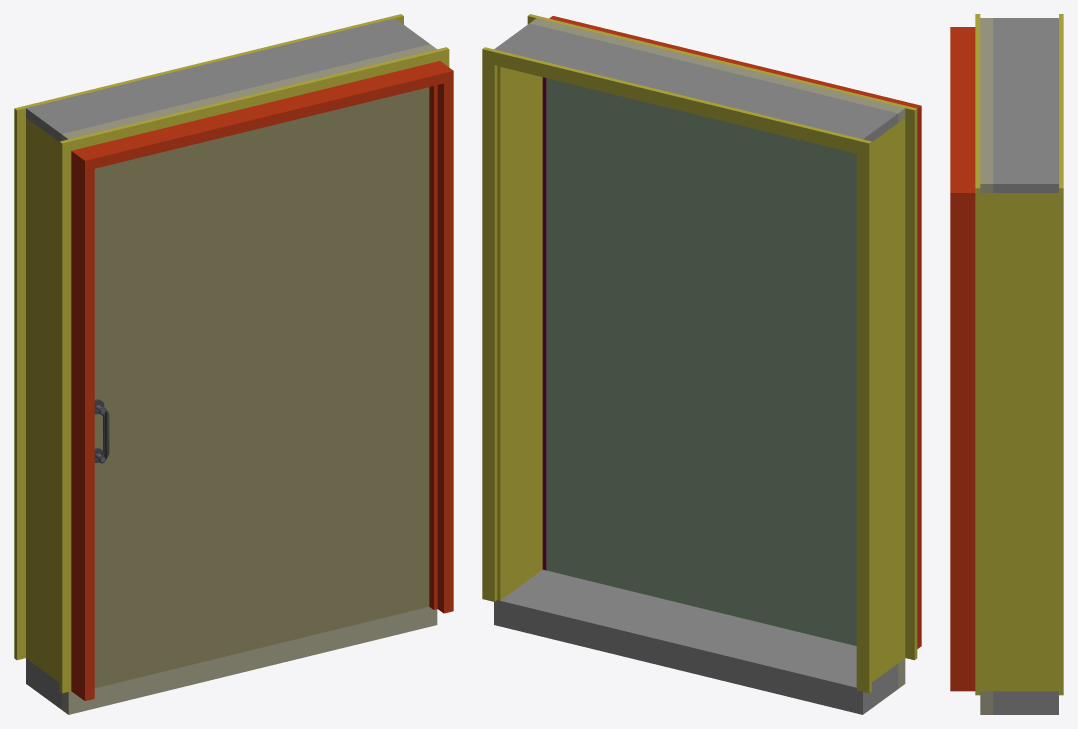
Rendered from Door Hosp.obj.
3 renders of one model, left to right at view 1: azimuth 30°, elevation 25°; view 2: azimuth 150°, elevation 25°; view 3: azimuth 270°, elevation 25°, orthographic. The views are drawn at different scales.
Visible parts, largest first — view 1: DOOR GROUND_FLOOR PAINT_-_GOLDEN_BEIGE, DOOR GROUND_FLOOR PAINT_-_LEAD_OXIDE_YELLOW, DOOR GROUND_FLOOR PAINT_-_CADMIUM_ORANGE, WALL GROUND_FLOOR PAINT_-_LIGHT_GRAY, WALL GROUND_FLOOR PAINT_-_SAND_BEIGE; view 2: DOOR GROUND_FLOOR PAINT_-_CELADON, DOOR GROUND_FLOOR PAINT_-_LEAD_OXIDE_YELLOW, WALL GROUND_FLOOR PAINT_-_LIGHT_GRAY, DOOR GROUND_FLOOR PAINT_-_CADMIUM_ORANGE, WALL GROUND_FLOOR PAINT_-_SAND_BEIGE, DOOR GROUND_FLOOR PAINT_-_BORDEAUX; view 3: DOOR GROUND_FLOOR PAINT_-_LEAD_OXIDE_YELLOW, DOOR GROUND_FLOOR PAINT_-_CADMIUM_ORANGE, WALL GROUND_FLOOR PAINT_-_LIGHT_GRAY, WALL GROUND_FLOOR PAINT_-_SAND_BEIGE.
Boxes of the visible parts, x1,y1,x2,y2 form: DOOR GROUND_FLOOR PAINT_-_GOLDEN_BEIGE: (94, 87, 429, 688); DOOR GROUND_FLOOR PAINT_-_LEAD_OXIDE_YELLOW: (14, 14, 449, 693); DOOR GROUND_FLOOR PAINT_-_CADMIUM_ORANGE: (71, 61, 453, 700); WALL GROUND_FLOOR PAINT_-_LIGHT_GRAY: (26, 18, 429, 709); WALL GROUND_FLOOR PAINT_-_SAND_BEIGE: (61, 44, 437, 714); DOOR GROUND_FLOOR PAINT_-_CELADON: (546, 78, 856, 645); DOOR GROUND_FLOOR PAINT_-_LEAD_OXIDE_YELLOW: (482, 14, 917, 693); WALL GROUND_FLOOR PAINT_-_LIGHT_GRAY: (494, 23, 898, 714); DOOR GROUND_FLOOR PAINT_-_CADMIUM_ORANGE: (549, 16, 921, 648); WALL GROUND_FLOOR PAINT_-_SAND_BEIGE: (530, 18, 905, 688); DOOR GROUND_FLOOR PAINT_-_BORDEAUX: (542, 77, 546, 570); DOOR GROUND_FLOOR PAINT_-_LEAD_OXIDE_YELLOW: (975, 14, 1063, 695); DOOR GROUND_FLOOR PAINT_-_CADMIUM_ORANGE: (950, 27, 975, 691); WALL GROUND_FLOOR PAINT_-_LIGHT_GRAY: (993, 18, 1058, 714); WALL GROUND_FLOOR PAINT_-_SAND_BEIGE: (980, 18, 993, 714).
Size of the model in its own units: 1574 by 2237 by 434.
